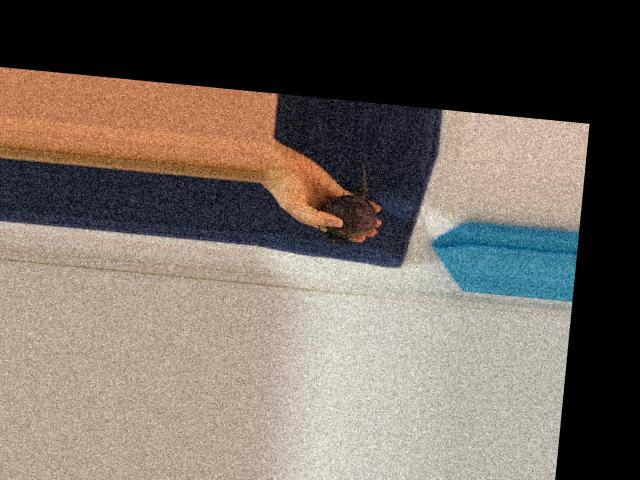beet: (316, 159, 382, 246)
